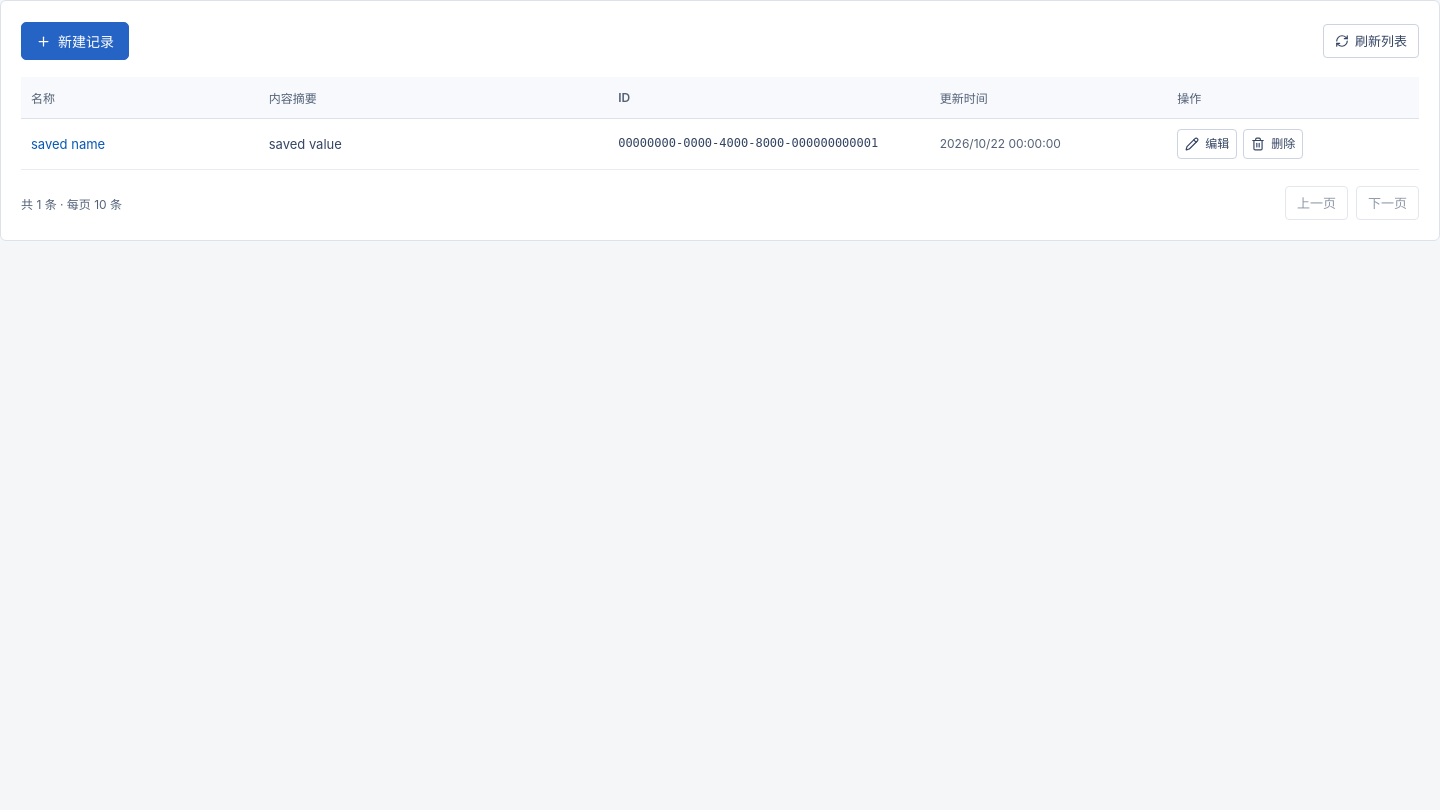
Test case: record workspace interruptions › does not recreate a record deleted elsewhere between fresh read and update
The image size is (1440, 810).
Click the button with aria-label "编辑 saved name" at [1207, 144], box [1177,129,1237,159]
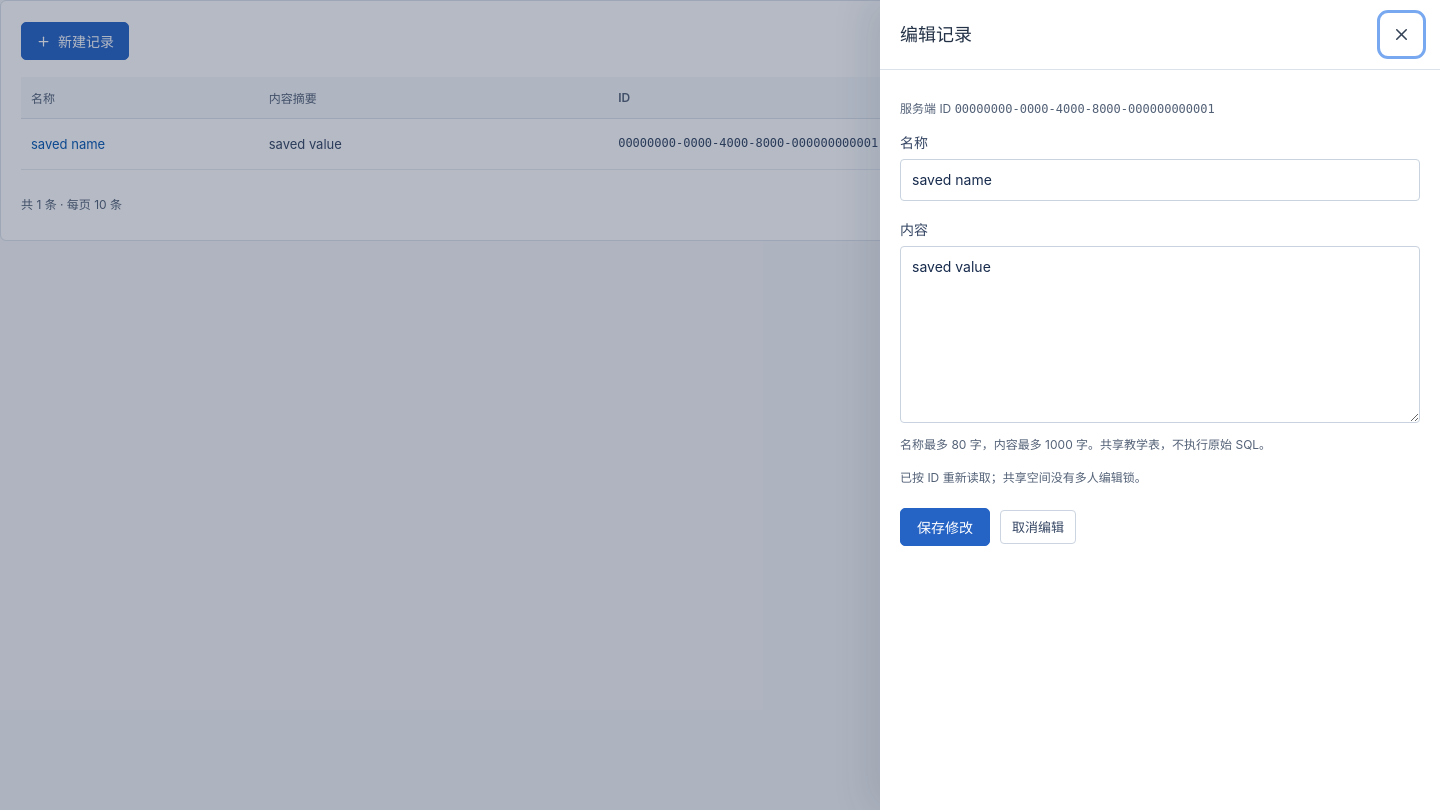
expect the field labelled "名称" is shown: met, box [900,159,1420,201]
Replace the text in the text box labelled "内容" with "replacement" at [1160, 335], box [900,246,1420,423]
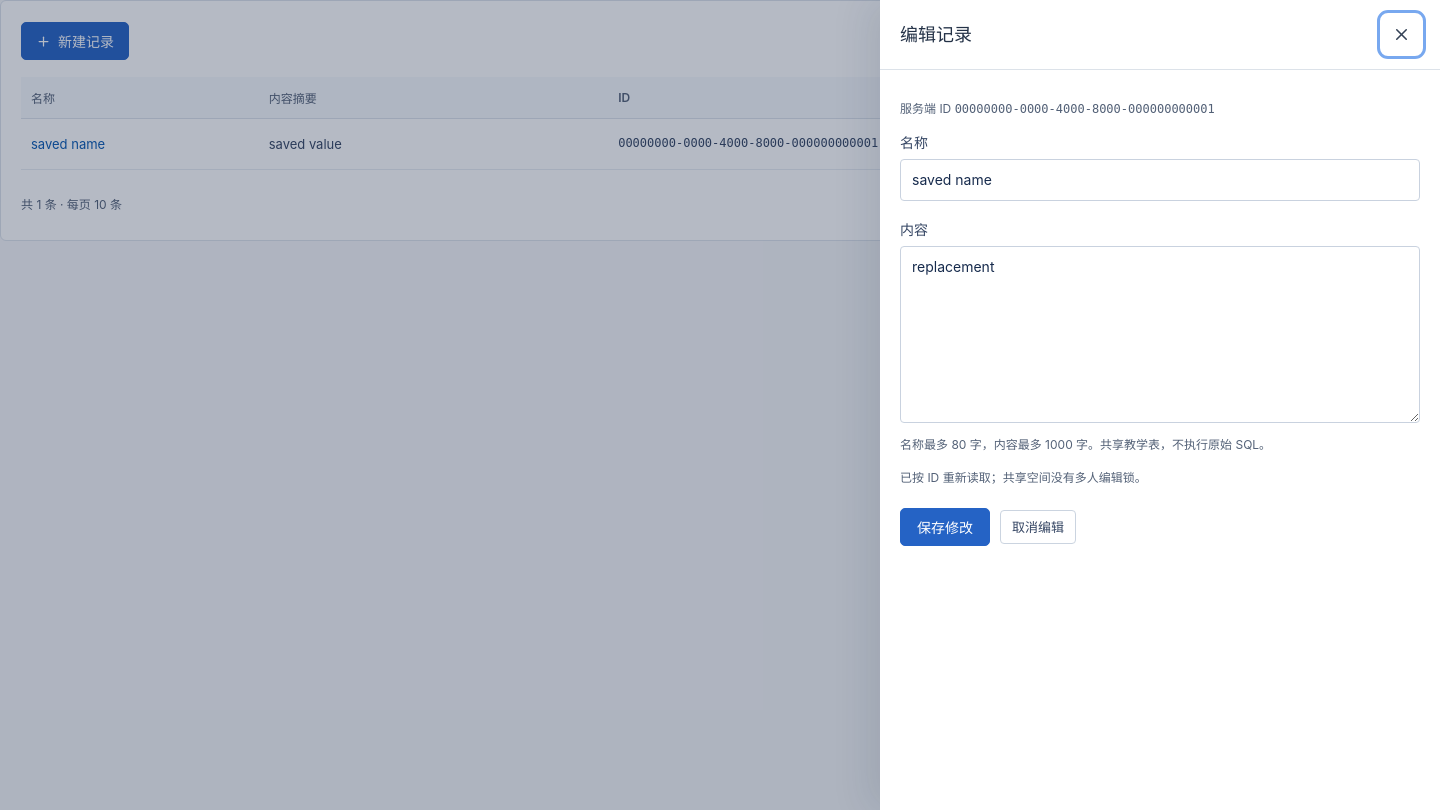
Click the button "保存修改" at [945, 527], box [900,508,990,546]
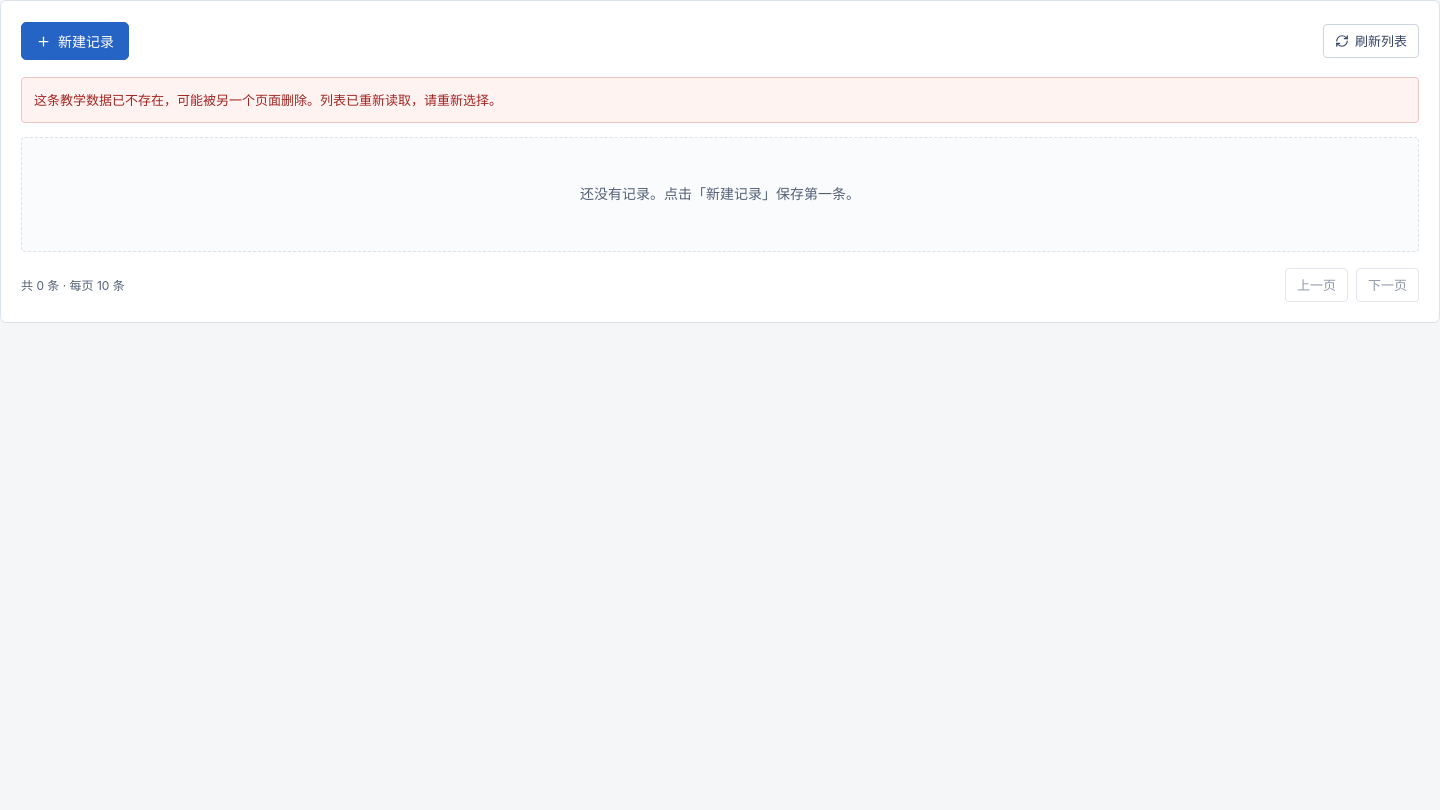
expect the text "这条教学数据已不存在，可能被另一个页面删除。列表已重新读取，请重新选择。" is shown: met, box [21,77,1419,123]
expect the dialog is gone: met
